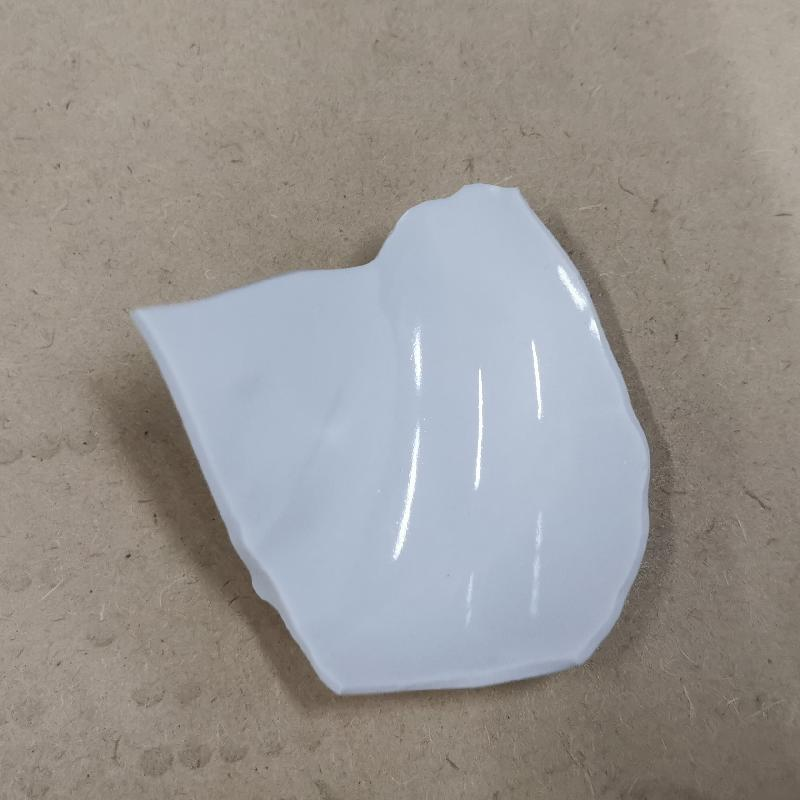ceram: (125, 180, 655, 701)
